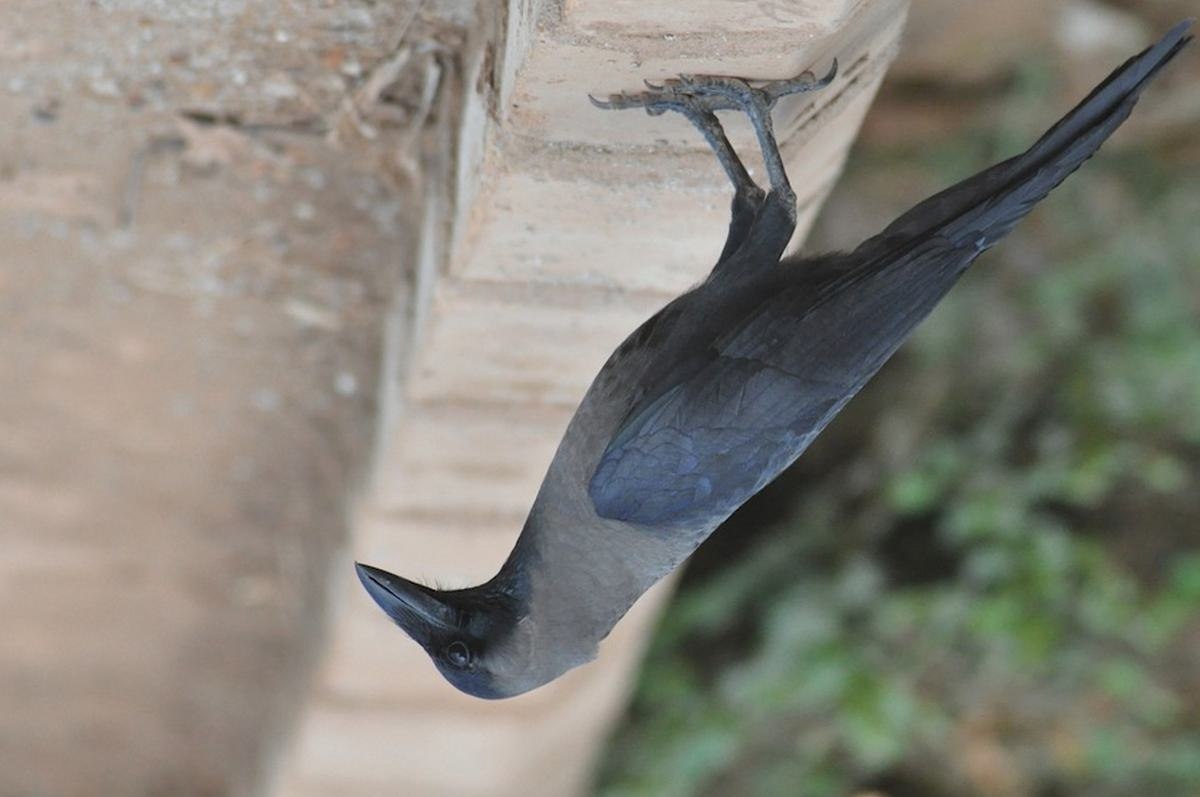crow: (337, 39, 1158, 740)
